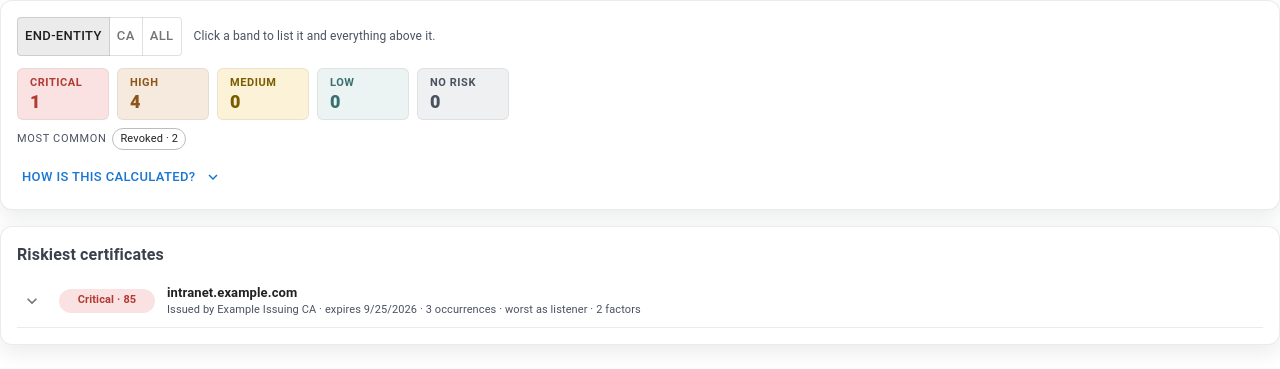
Test: CdpRiskPanel · lista y factores › ⭐ un clic en una banda la pone en la URL y la pide como minBand
expect the element with test id "risk-row" is shown: met, box [17,275,1263,328]
Click the button with aria-label "High: 4 certificates": [163, 94] box [117,68,209,120]
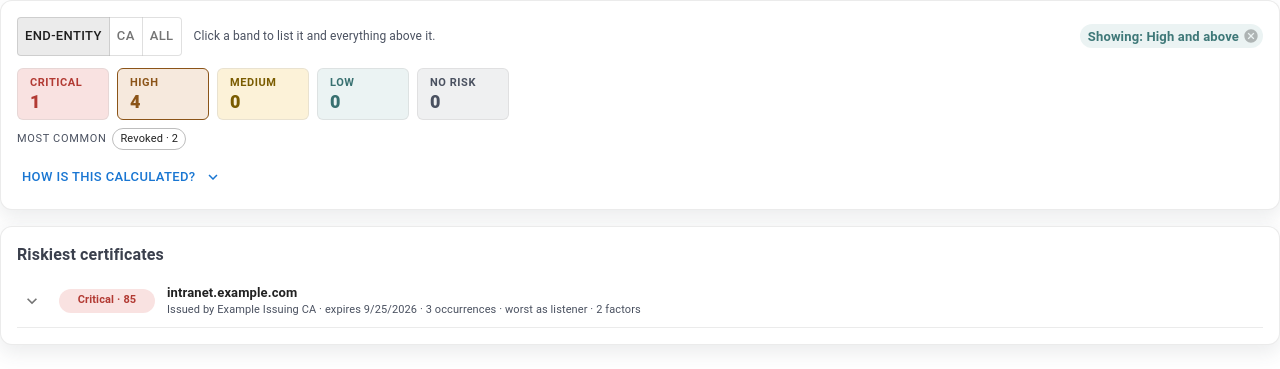
expect the text "Showing: High and above" is shown: met, box [1080,27,1247,46]
